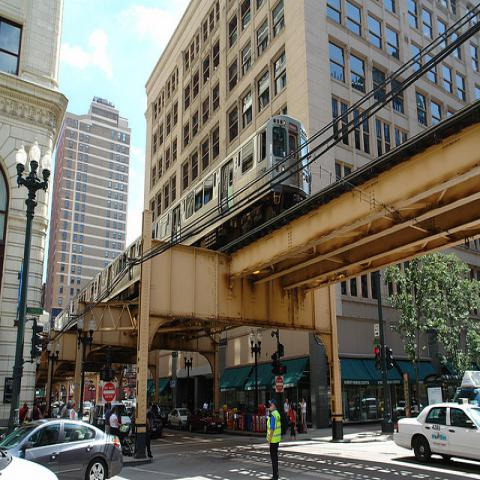car: (3, 412, 125, 474), (392, 396, 480, 468), (1, 450, 62, 480), (95, 401, 132, 438), (186, 408, 225, 435), (350, 398, 382, 418), (147, 402, 165, 426), (167, 408, 191, 424), (396, 401, 405, 415), (83, 401, 91, 416), (61, 404, 68, 415)
